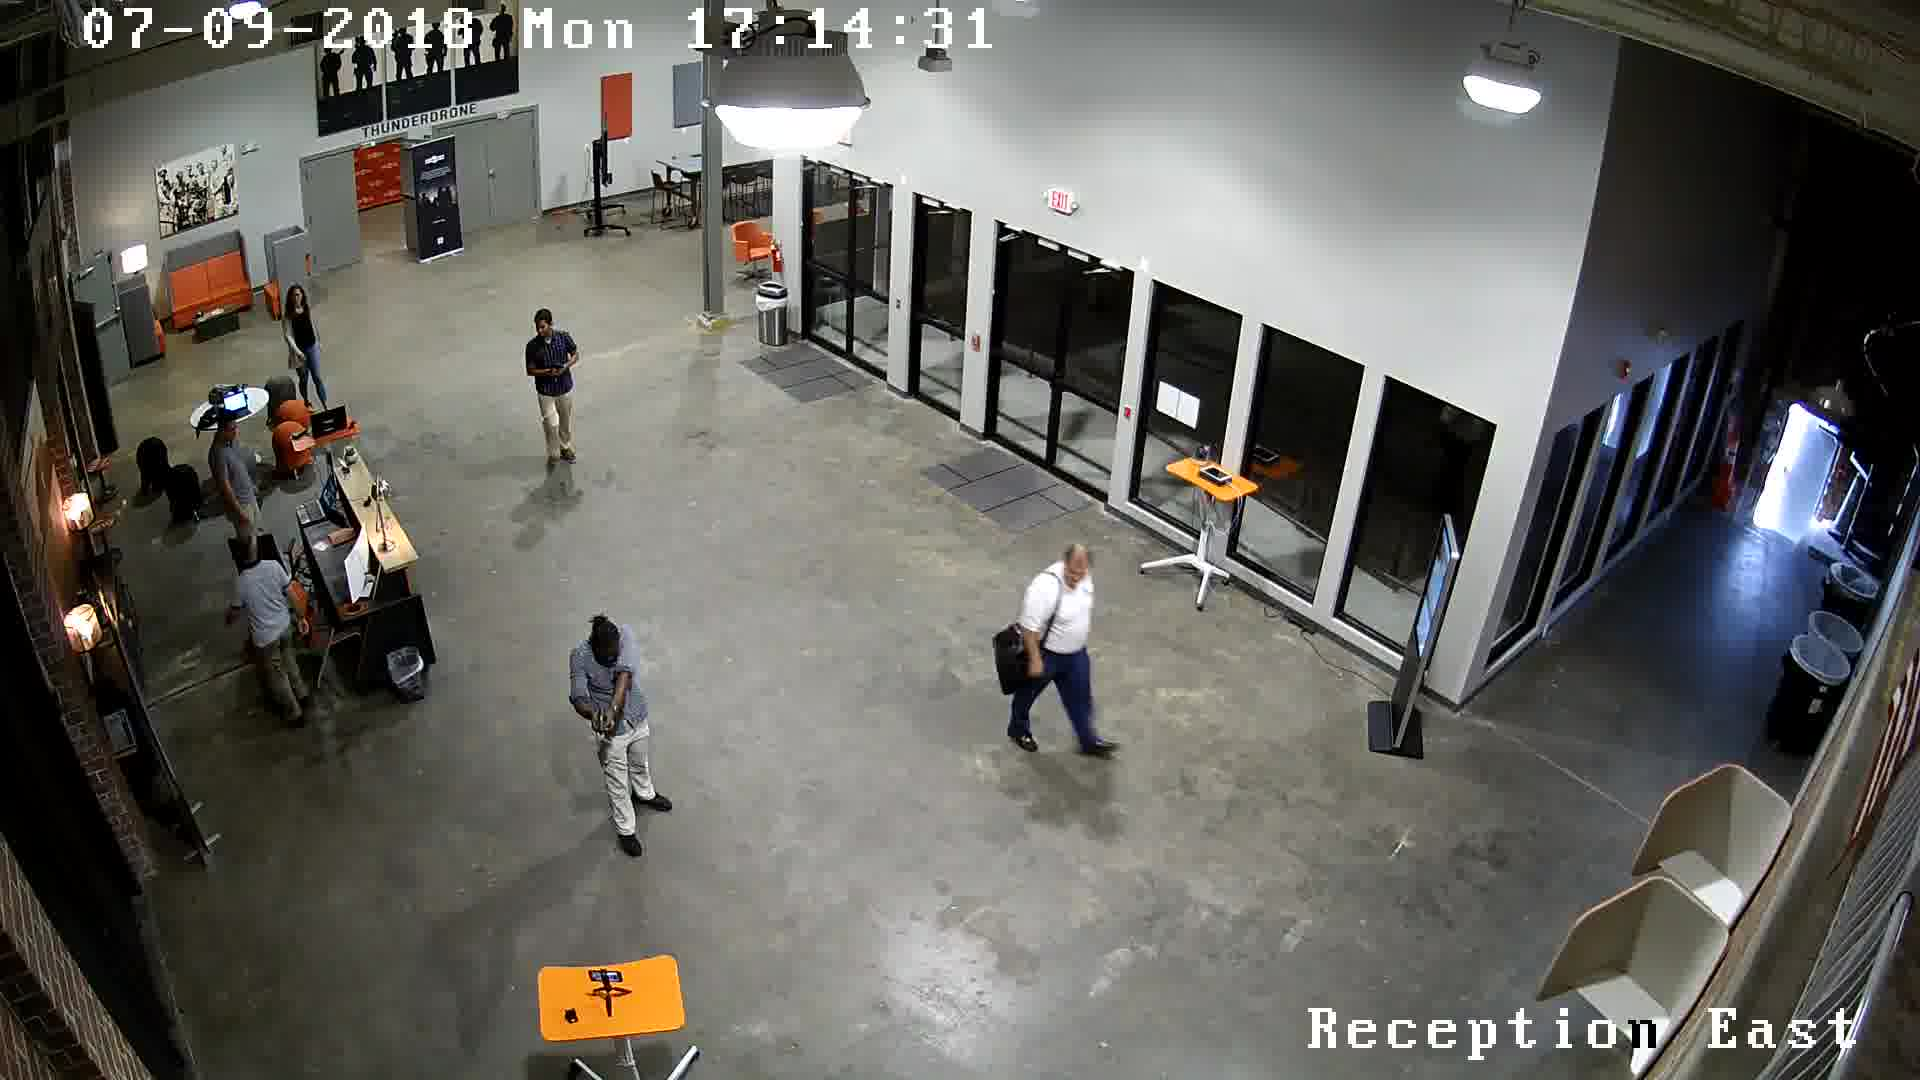pistol: (592, 702, 622, 756), (535, 360, 570, 390)
